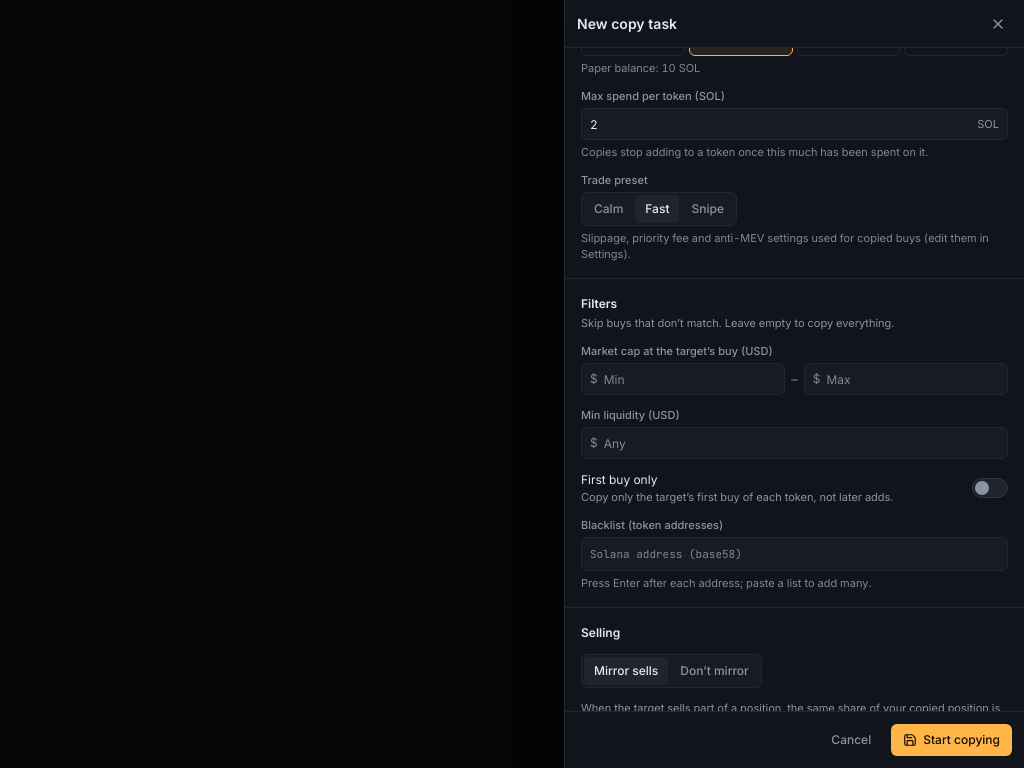
Test: CopyTaskForm validation › a market-cap range with min above max marks both bounds invalid and moves focus there
(page scrolled)
Type "1000000" into the field named "Market cap min". click: (690, 379)
box: [604,364,776,394]
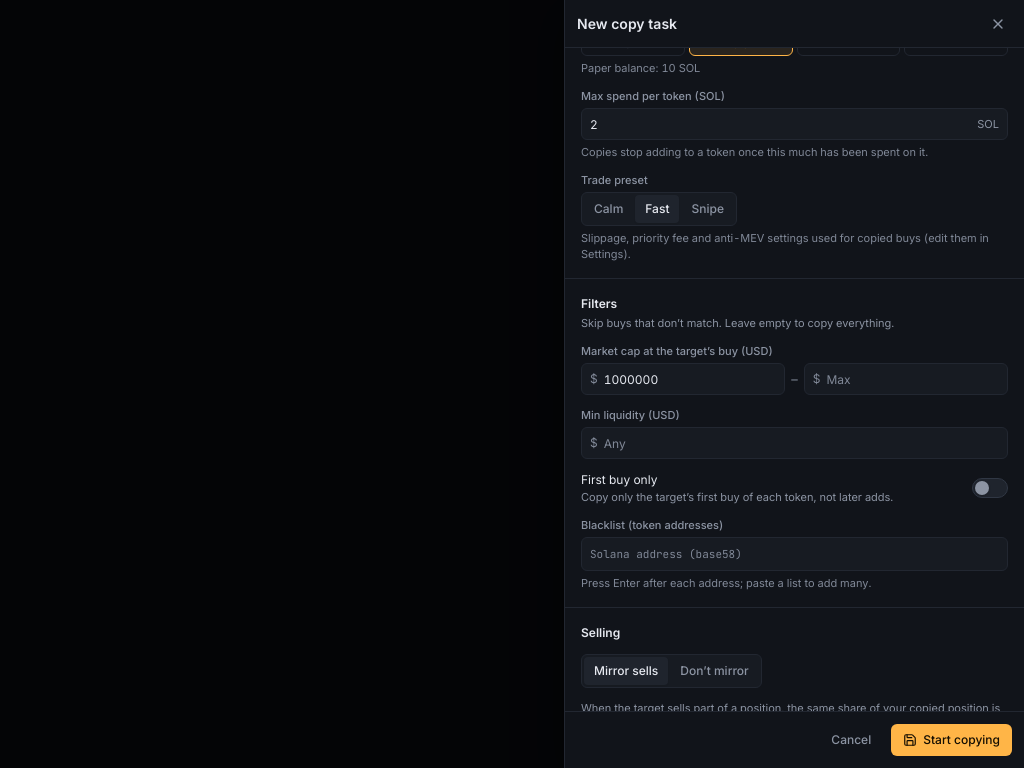
Type "1000" into the field named "Market cap max". click: (913, 379)
box: [826,364,999,394]
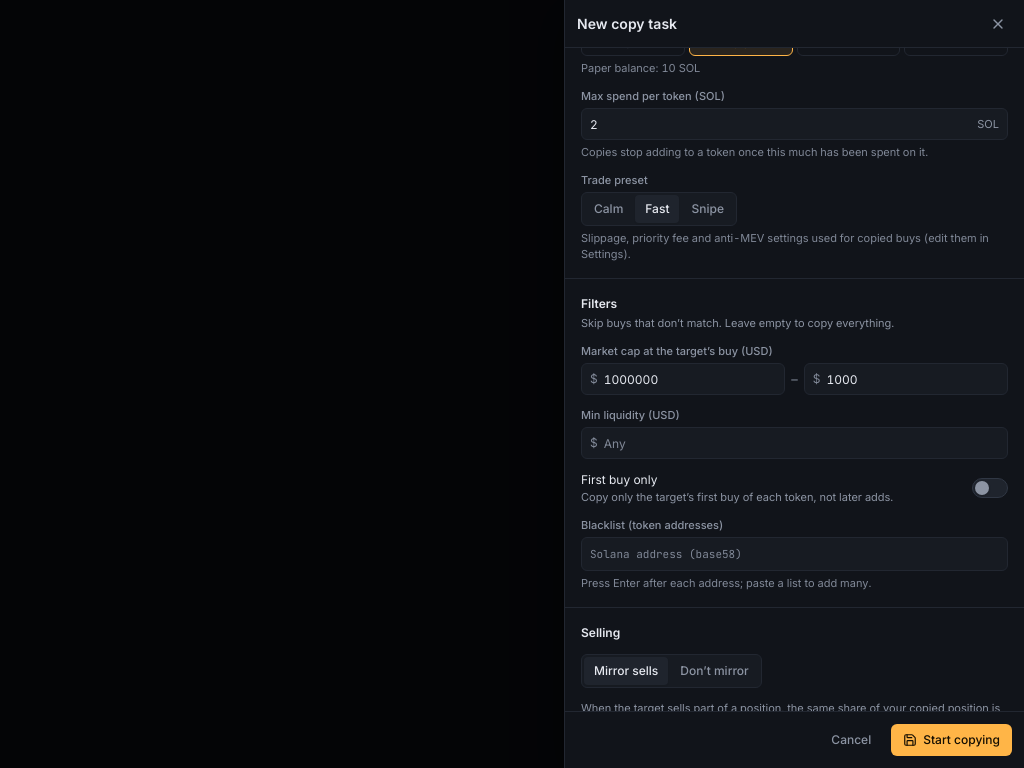
Click the button "Start copying". click: (952, 740)
box: [891,724,1012,756]
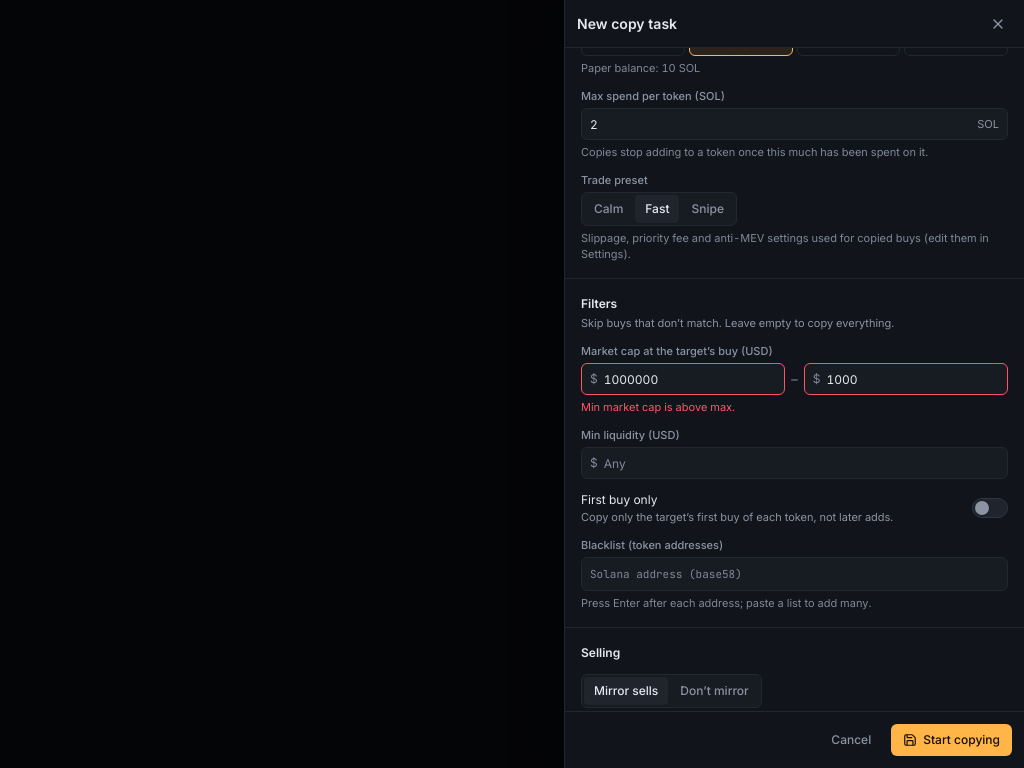
expect the text "Min market cap is above max." is shown: met, box [581,400,735,414]
